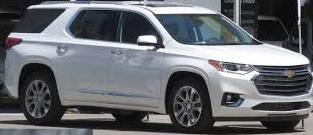SUV: (5, 3, 313, 132)
